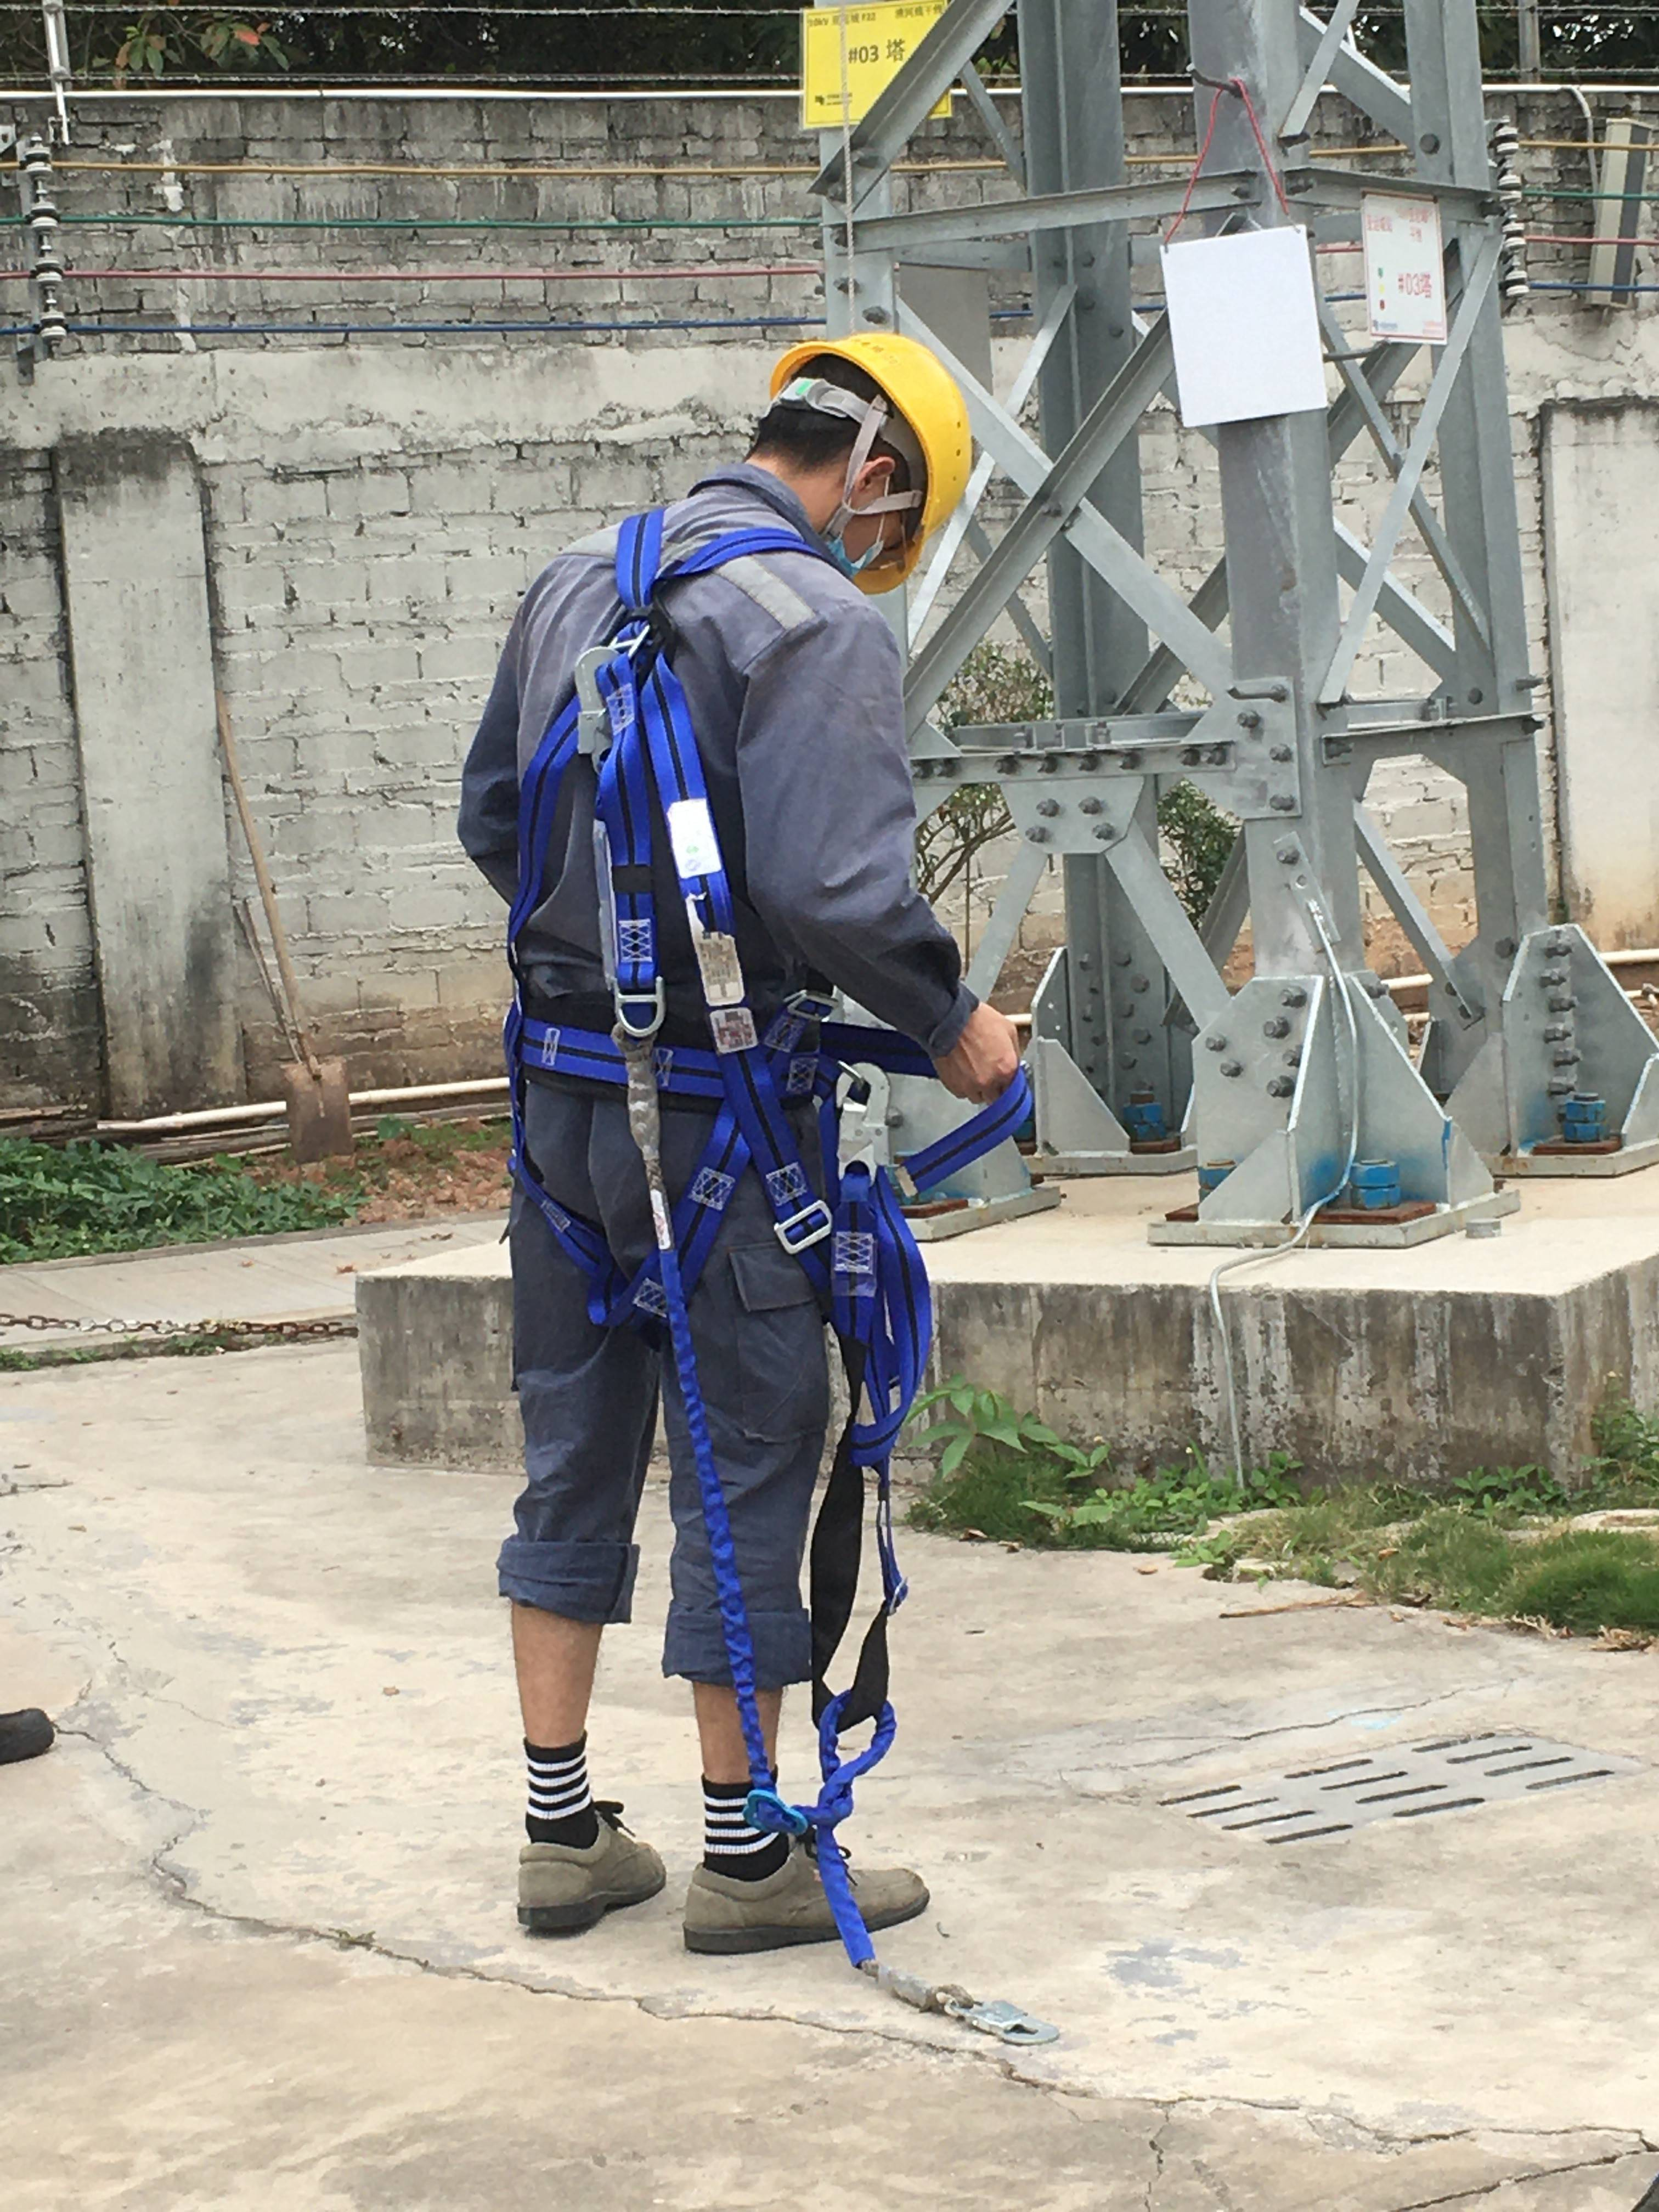downsuit: (474, 1054, 871, 1688)
upsuit: (444, 469, 985, 1092)
wrongbottom: (498, 1507, 643, 1858), (667, 1514, 826, 1820)
